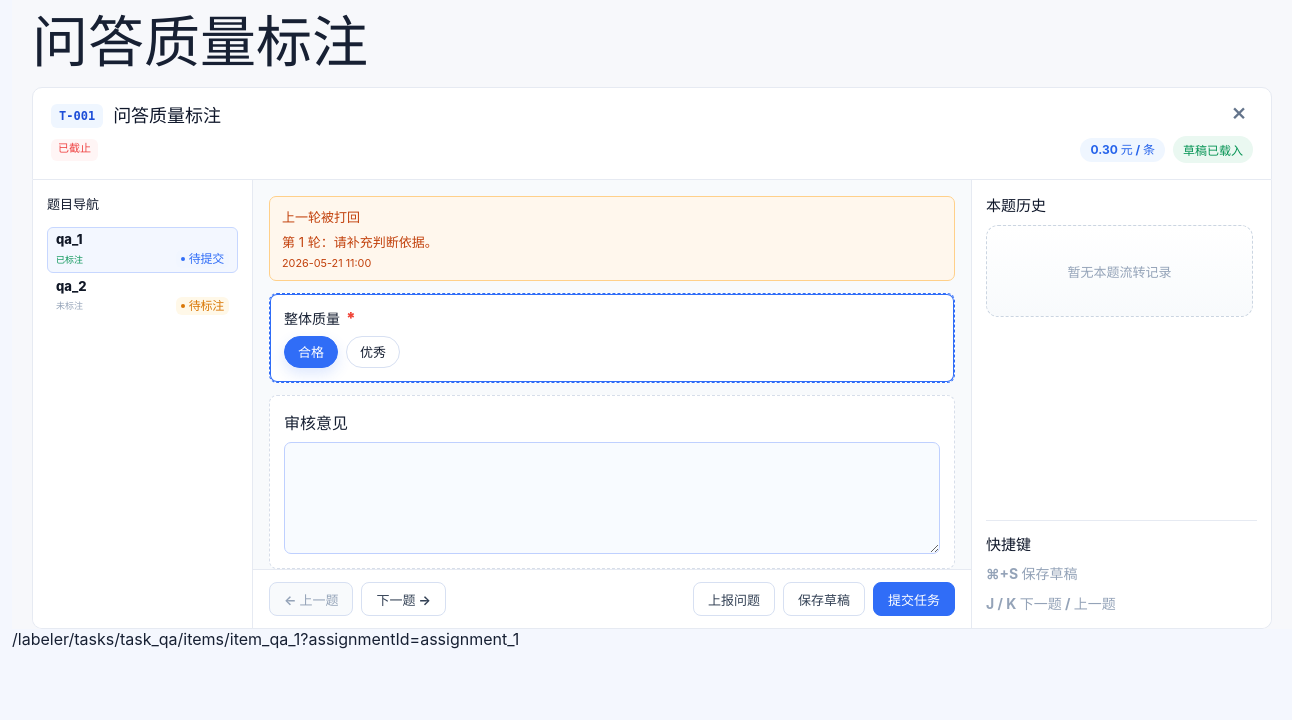
Scenario: WorkbenchPage › 提交任务前会同步非当前题的本地未保存答案
Click the button named "qa_2": (142, 297) [47,274,238,320]
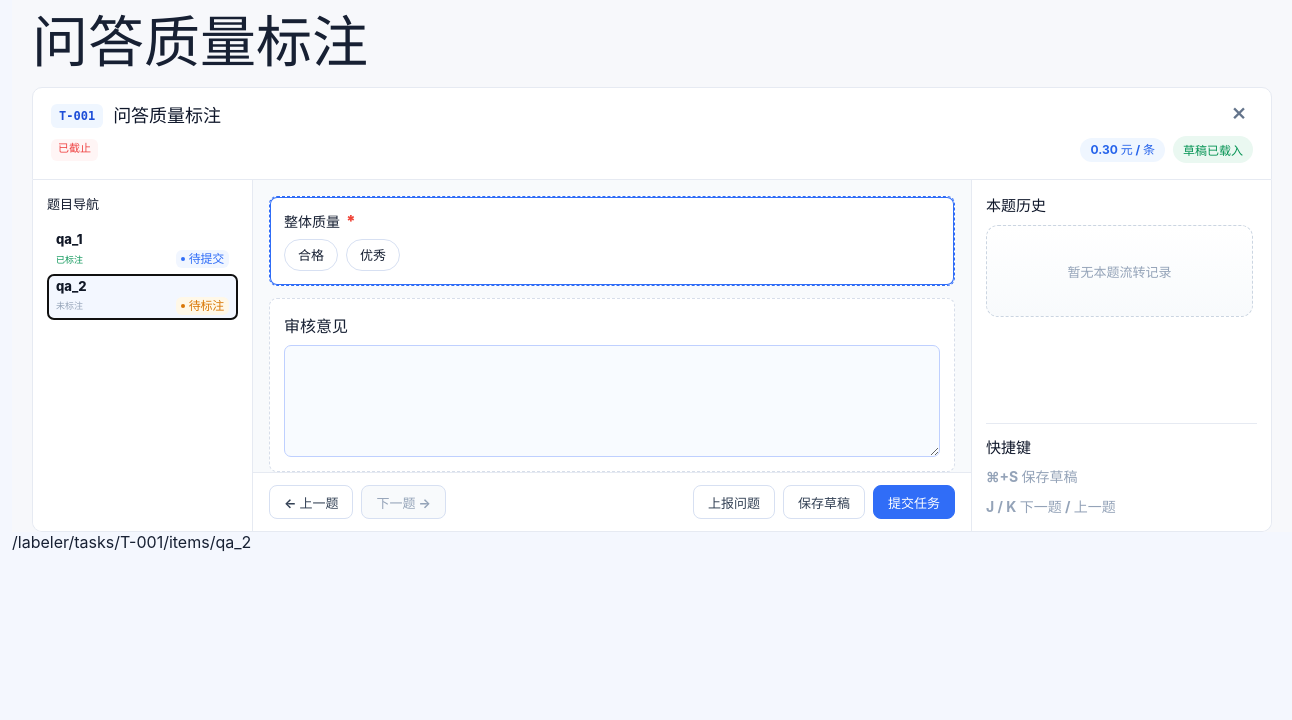
Result: the text with test id "location-path" reads "/labeler/tasks/T-001/items/qa_2" at [12,532,251,552]
Click the radio button labelled "优秀": (373, 255) [346,239,400,271]
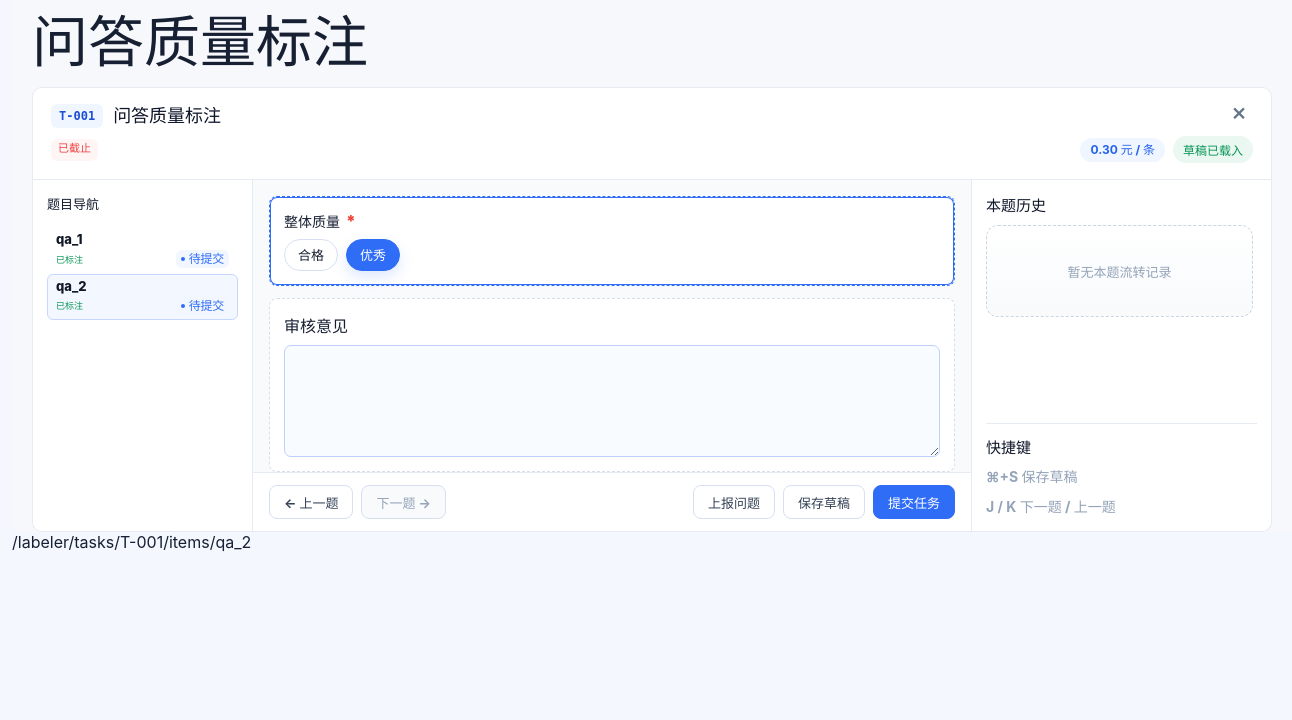
Click the button named "qa_1": (142, 250) [47,227,238,273]
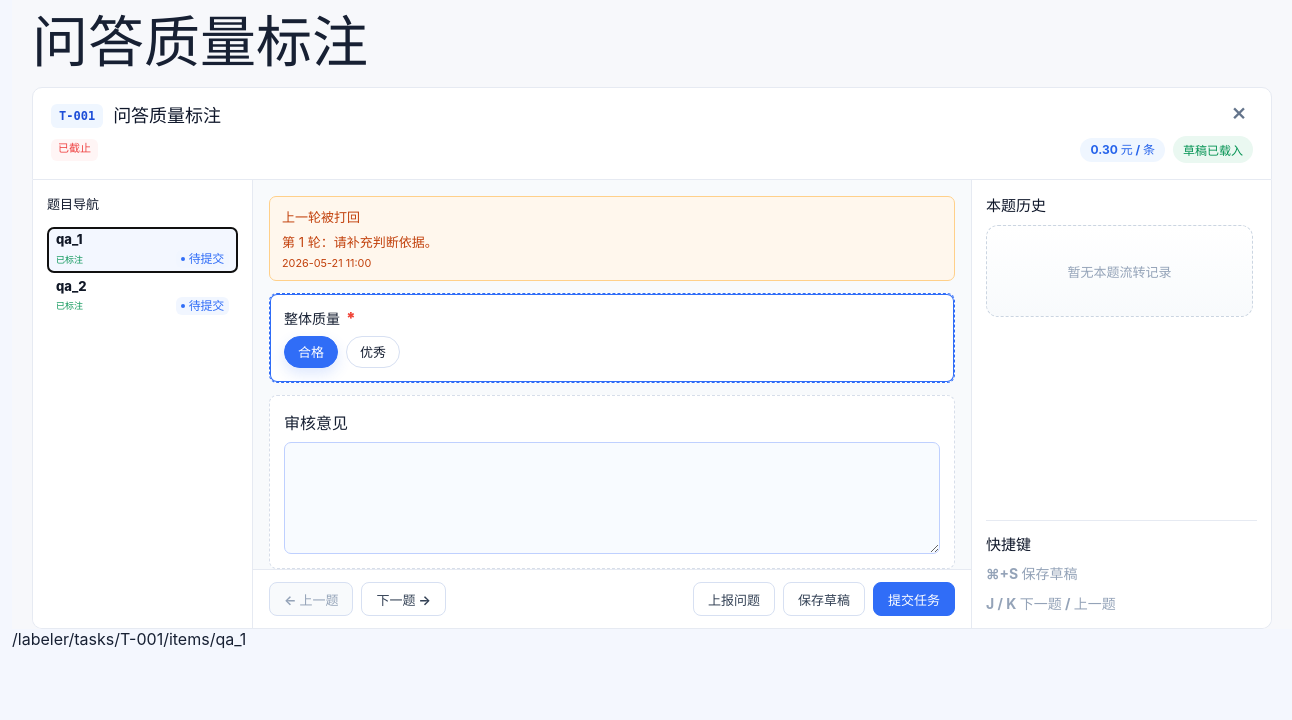
Result: the text with test id "location-path" reads "/labeler/tasks/T-001/items/qa_1" at [12,629,246,649]
Click the button "提交任务": (914, 599) [873,582,955,616]
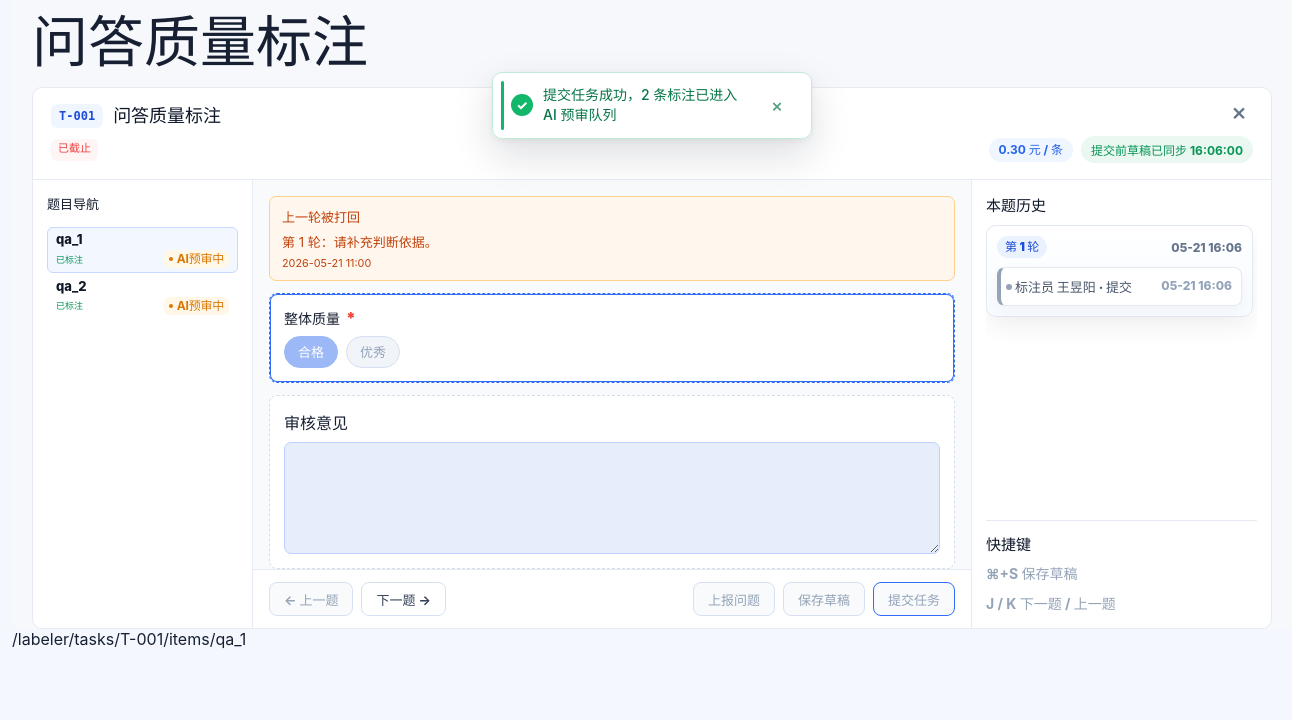
Result: the text "提交任务成功，2 条标注已进入 AI 预审队列" is shown at [543,85,753,126]
